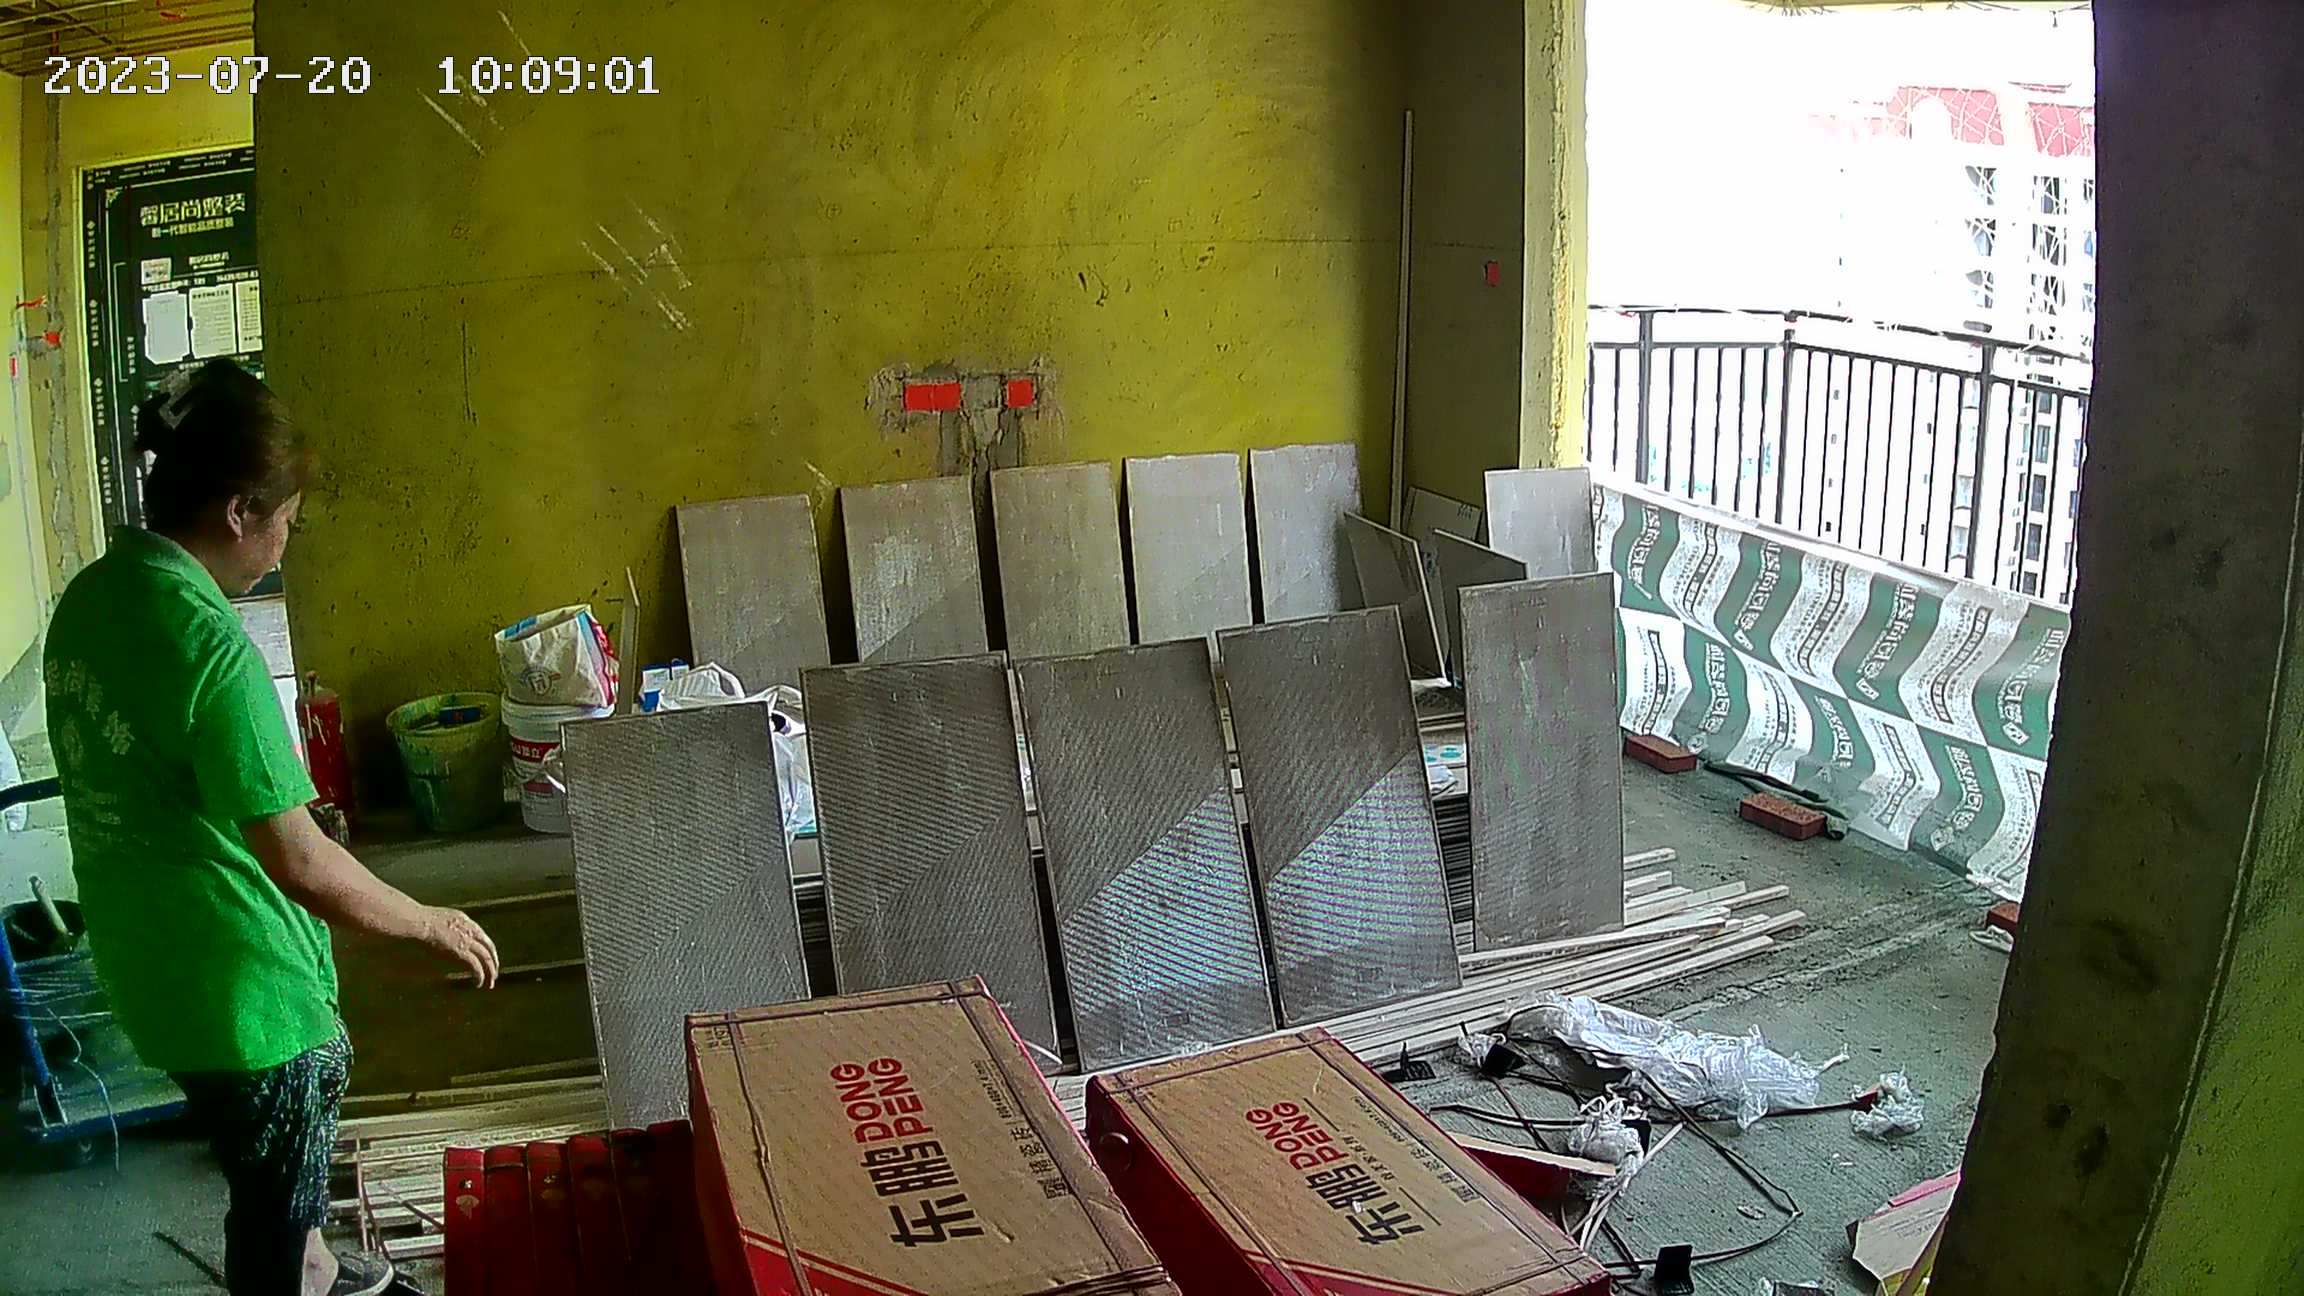people: (43, 372, 504, 1296)
window: (1579, 4, 2113, 602)
